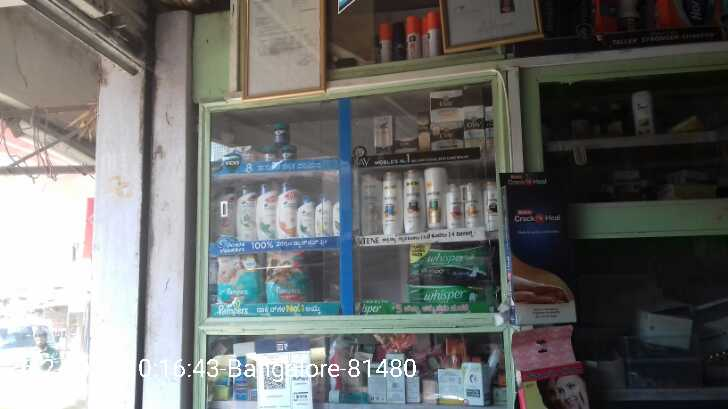beauty: (421, 166, 446, 233), (383, 170, 404, 236), (255, 181, 277, 240), (427, 87, 463, 122), (276, 186, 298, 239), (430, 119, 462, 151), (402, 172, 419, 231), (373, 112, 394, 155), (314, 195, 333, 239), (296, 195, 314, 241), (447, 182, 460, 236), (463, 180, 475, 226), (394, 136, 418, 152)
pharmacy: (407, 244, 496, 282), (211, 248, 264, 308), (263, 251, 316, 304), (403, 281, 489, 305), (268, 119, 292, 145), (278, 142, 298, 160)
